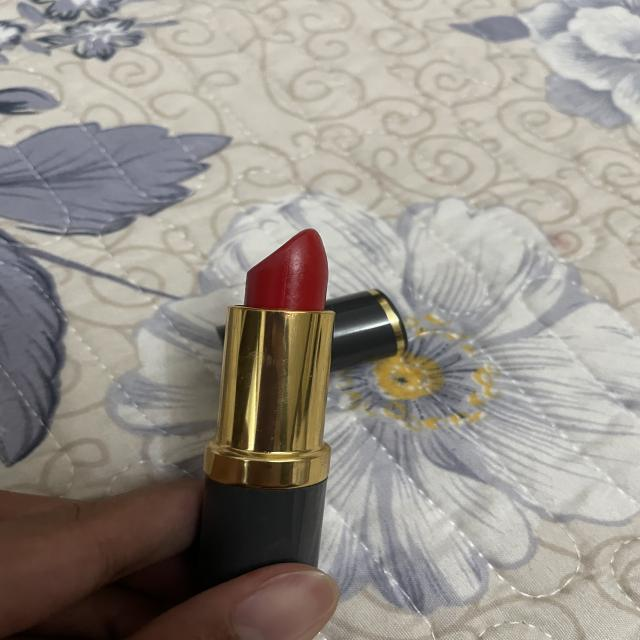lip stick: (186, 210, 350, 591)
